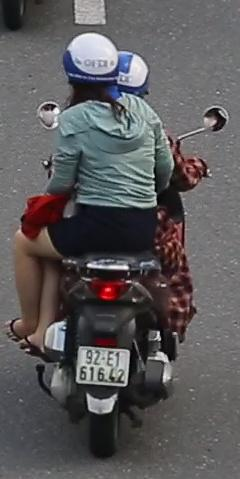LP: (76, 342, 132, 389)
helmet: (62, 30, 119, 86), (112, 42, 152, 103)
